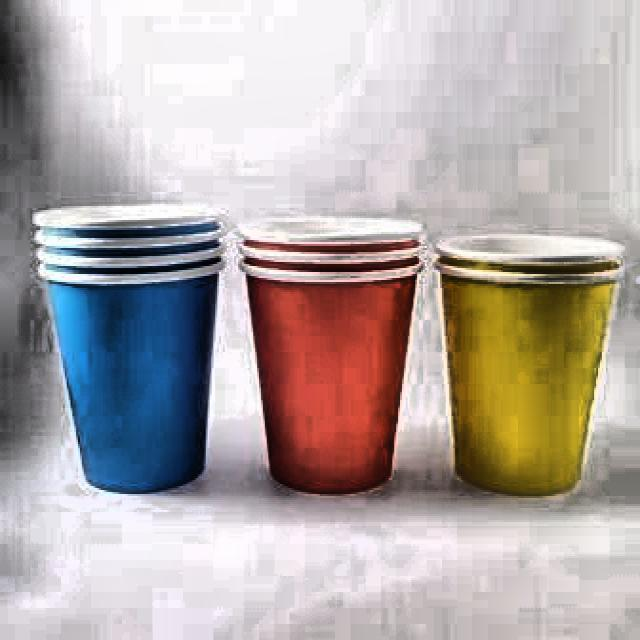Cup: (29, 202, 228, 496), (430, 224, 624, 502), (234, 213, 421, 499)
